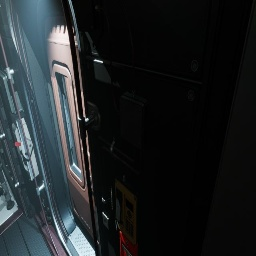EmergencyPhone ,: (110, 165, 139, 247)
FireAlarm ,: (120, 230, 138, 256)
SafetySwitchPanel ,: (9, 111, 39, 181)
